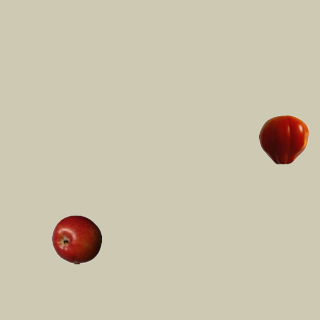Apple Braeburn: (51, 214, 101, 264)
Tomato 1: (258, 114, 308, 164)
